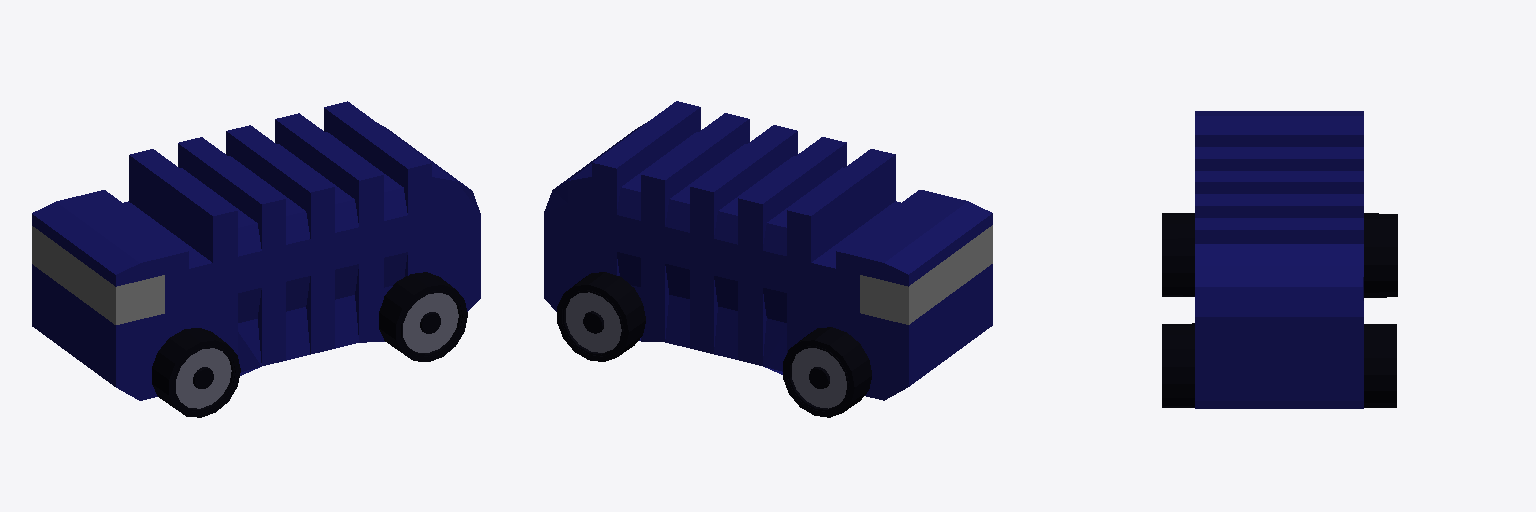
The model's file is Tonka_Mesh.obj.
3 renders of one model, left to right at view 1: azimuth 30°, elevation 25°; view 2: azimuth 150°, elevation 25°; view 3: azimuth 270°, elevation 25°, orthographic.
Visible parts, largest first — view 1: TonkaBody, Wheel1 Wheel2 Wheel4, Wheel5; view 2: TonkaBody, Wheel1 Wheel2 Wheel4; view 3: TonkaBody, Wheel1 Wheel2 Wheel4, Wheel5.
Boxes of the visible parts, <box> form: TonkaBody: <box>32,101,480,400</box>; Wheel1 Wheel2 Wheel4: <box>379,272,467,361</box>; Wheel5: <box>152,328,240,417</box>; TonkaBody: <box>544,101,992,400</box>; Wheel1 Wheel2 Wheel4: <box>557,272,871,417</box>; TonkaBody: <box>1195,111,1363,408</box>; Wheel1 Wheel2 Wheel4: <box>1162,213,1397,407</box>; Wheel5: <box>1162,213,1194,296</box>.
Bounding box in the file's own units: 5 × 2.39 × 2.8.